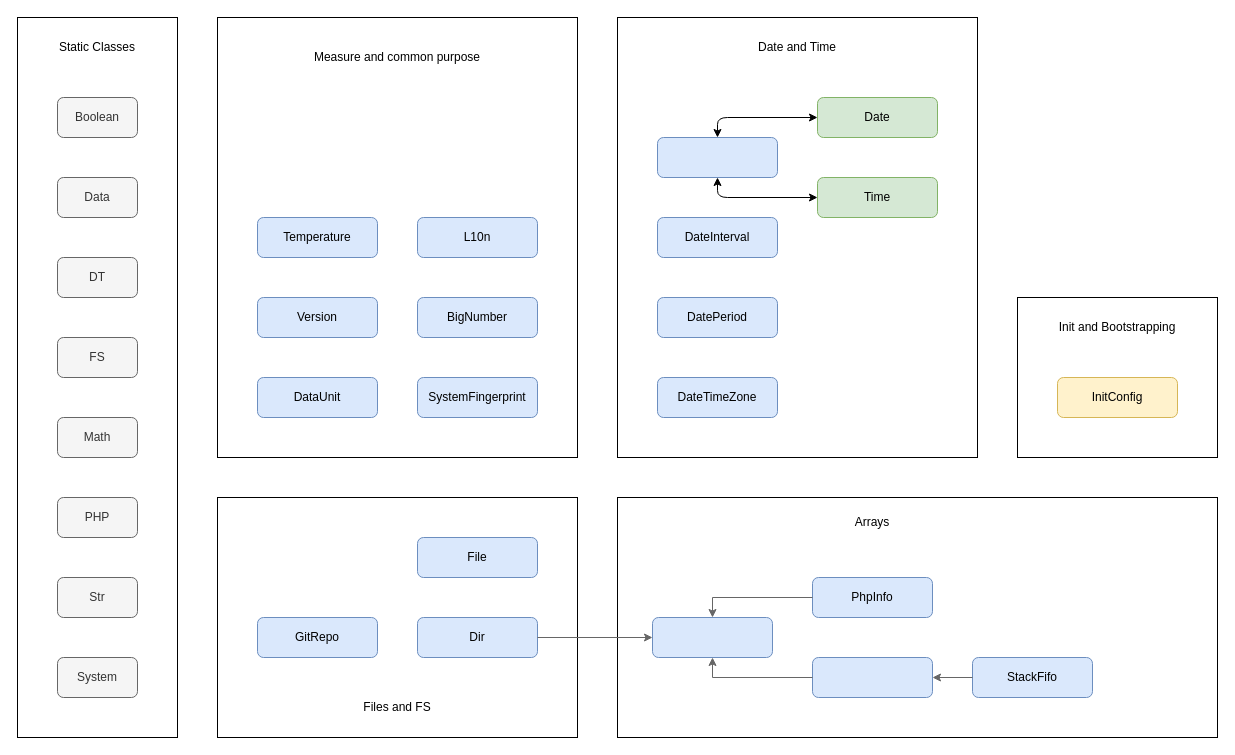
The diagram is 1235 pixels wide and 755 high, and some of its shapes have lost their labels. Here are the shapes that lost their labels. From the top down, the centre of each, then its label:
At (x=717, y=157): "DateTime".
At (x=712, y=637): "Box".
At (x=872, y=677): "StackLifo".
